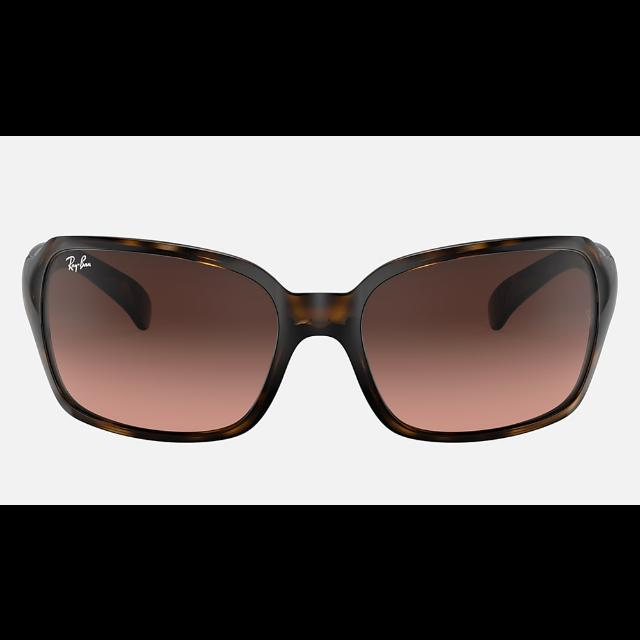Sunglasses: (22, 233, 618, 442)
